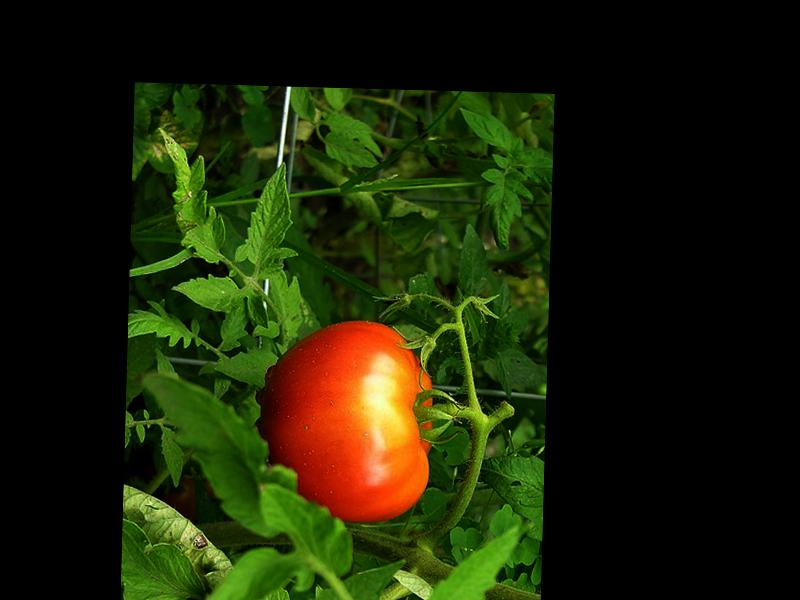Tomato: (260, 319, 436, 523)
